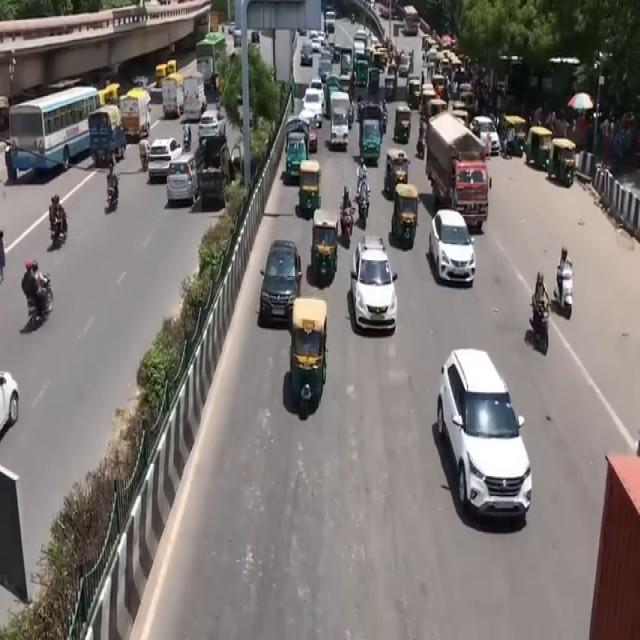BUS: (10, 88, 102, 185)
MOTORCYCLE: (528, 301, 550, 359), (553, 276, 574, 322), (342, 204, 354, 250), (356, 195, 371, 231)
TRUCK: (427, 115, 494, 231)
